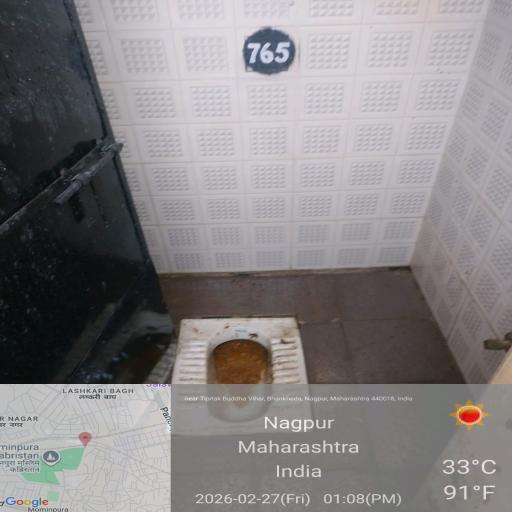clean_floor: (91, 15, 512, 261)
dirty_indian: (97, 295, 339, 459)
